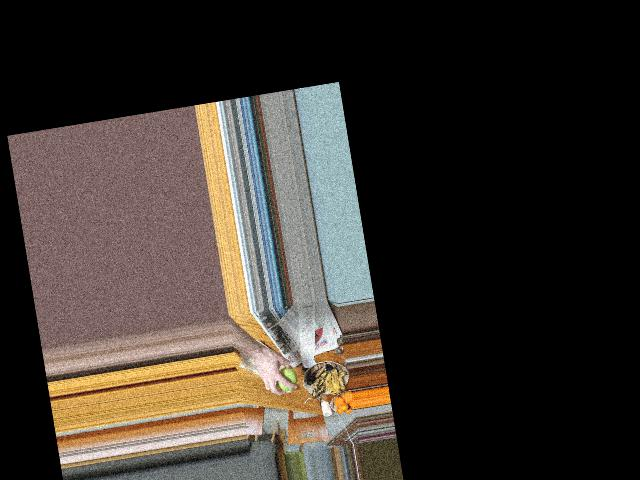apple: (273, 365, 298, 393)
